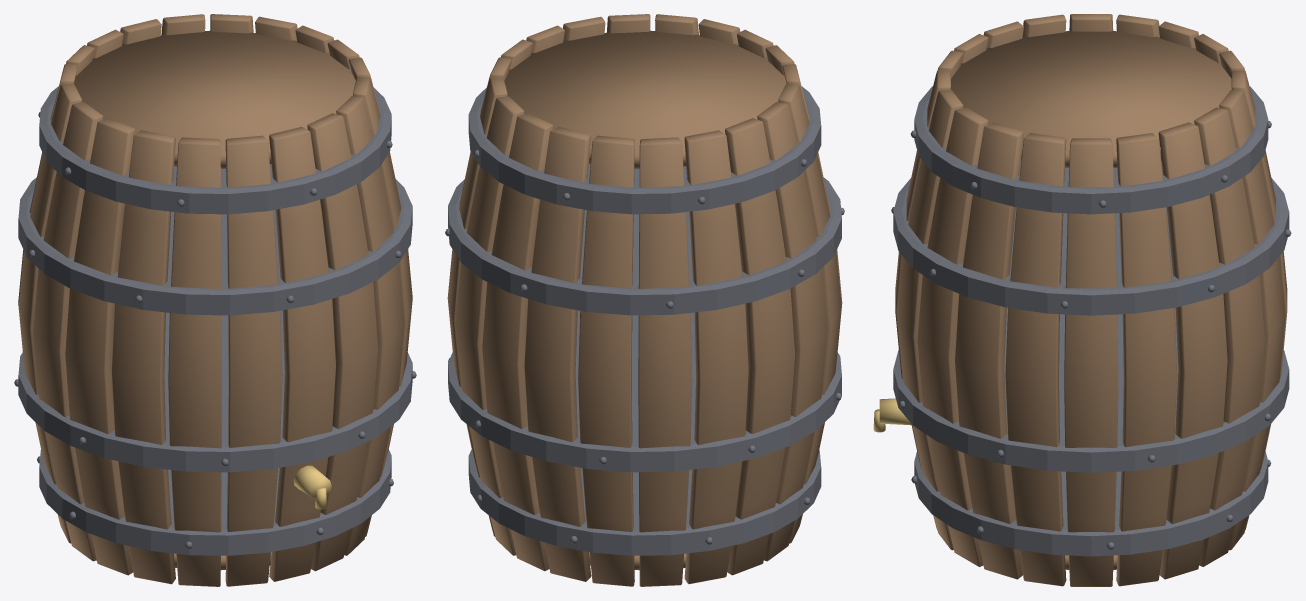
Rendered from tavern_barrel.glb.
The picture shows the model from 3 angles, left to right: view 1: azimuth 30°, elevation 25°; view 2: azimuth 150°, elevation 25°; view 3: azimuth 270°, elevation 25°; orthographic projection.
Parts seen in each view (by area): view 1: BarrelLidTop, BarrelStave_13, BarrelStave_14, BarrelStave_12, BarrelStave_15, BarrelStave_11, BarrelHoop_65, BarrelStave_16, BarrelHoop_31, BarrelHoop_85, BarrelStave_10, BarrelHoop_11 (+11 smaller); view 2: BarrelLidTop, BarrelStave_7, BarrelStave_6, BarrelStave_8, BarrelStave_5, BarrelStave_9, BarrelStave_4, BarrelHoop_65, BarrelHoop_31, BarrelHoop_85, BarrelStave_10, BarrelHoop_11 (+10 smaller); view 3: BarrelLidTop, BarrelStave_0, BarrelStave_19, BarrelStave_1, BarrelStave_2, BarrelStave_18, BarrelHoop_65, BarrelHoop_31, BarrelStave_17, BarrelStave_3, BarrelHoop_85, BarrelHoop_11 (+12 smaller).
Boxes of the visible parts, bbox=[...] form: BarrelLidTop: bbox=[74, 30, 355, 168]; BarrelStave_13: bbox=[168, 137, 221, 586]; BarrelStave_14: bbox=[225, 135, 282, 586]; BarrelStave_12: bbox=[111, 130, 175, 584]; BarrelStave_15: bbox=[269, 126, 335, 581]; BarrelStave_11: bbox=[65, 118, 135, 575]; BarrelHoop_65: bbox=[18, 177, 412, 315]; BarrelStave_16: bbox=[307, 113, 378, 571]; BarrelHoop_31: bbox=[18, 310, 412, 472]; BarrelHoop_85: bbox=[39, 86, 391, 214]; BarrelStave_10: bbox=[33, 102, 103, 561]; BarrelHoop_11: bbox=[39, 449, 391, 555]; BarrelLidTop: bbox=[504, 30, 786, 168]; BarrelStave_7: bbox=[638, 137, 692, 586]; BarrelStave_6: bbox=[578, 135, 634, 586]; BarrelStave_8: bbox=[684, 130, 748, 584]; BarrelStave_5: bbox=[524, 126, 591, 581]; BarrelStave_9: bbox=[725, 118, 795, 575]; BarrelStave_4: bbox=[482, 113, 552, 571]; BarrelHoop_65: bbox=[448, 177, 841, 315]; BarrelHoop_31: bbox=[448, 310, 841, 472]; BarrelHoop_85: bbox=[468, 86, 821, 214]; BarrelStave_10: bbox=[757, 102, 827, 561]; BarrelHoop_11: bbox=[468, 449, 821, 555]; BarrelLidTop: bbox=[950, 31, 1231, 167]; BarrelStave_0: bbox=[1064, 138, 1118, 586]; BarrelStave_19: bbox=[1005, 133, 1066, 586]; BarrelStave_1: bbox=[1116, 133, 1177, 586]; BarrelStave_2: bbox=[1158, 122, 1227, 579]; BarrelStave_18: bbox=[955, 122, 1023, 579]; BarrelHoop_65: bbox=[893, 178, 1289, 315]; BarrelHoop_31: bbox=[893, 307, 1289, 472]; BarrelStave_17: bbox=[917, 107, 988, 566]; BarrelStave_3: bbox=[1194, 107, 1265, 566]; BarrelHoop_85: bbox=[914, 86, 1268, 214]; BarrelHoop_11: bbox=[914, 451, 1268, 556].
Size of the model in its own units: 0.7849 by 0.96 by 0.8194.
